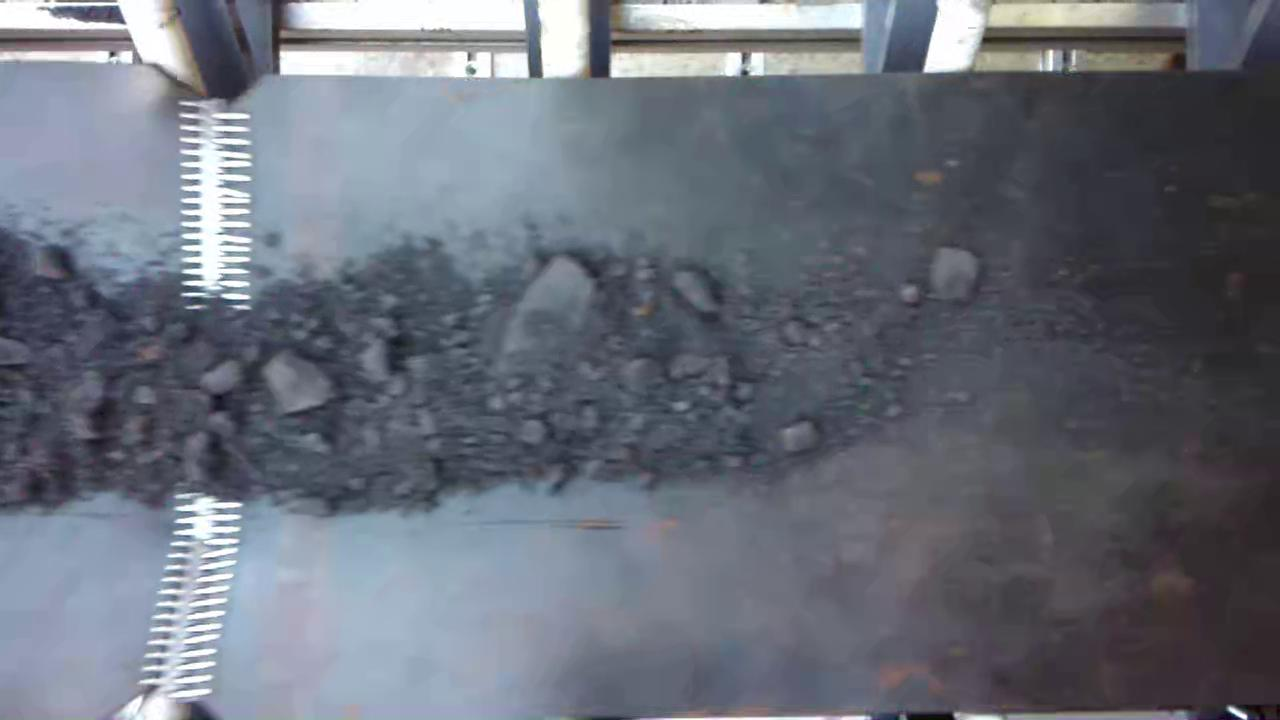conveyor: (5, 83, 1280, 690)
